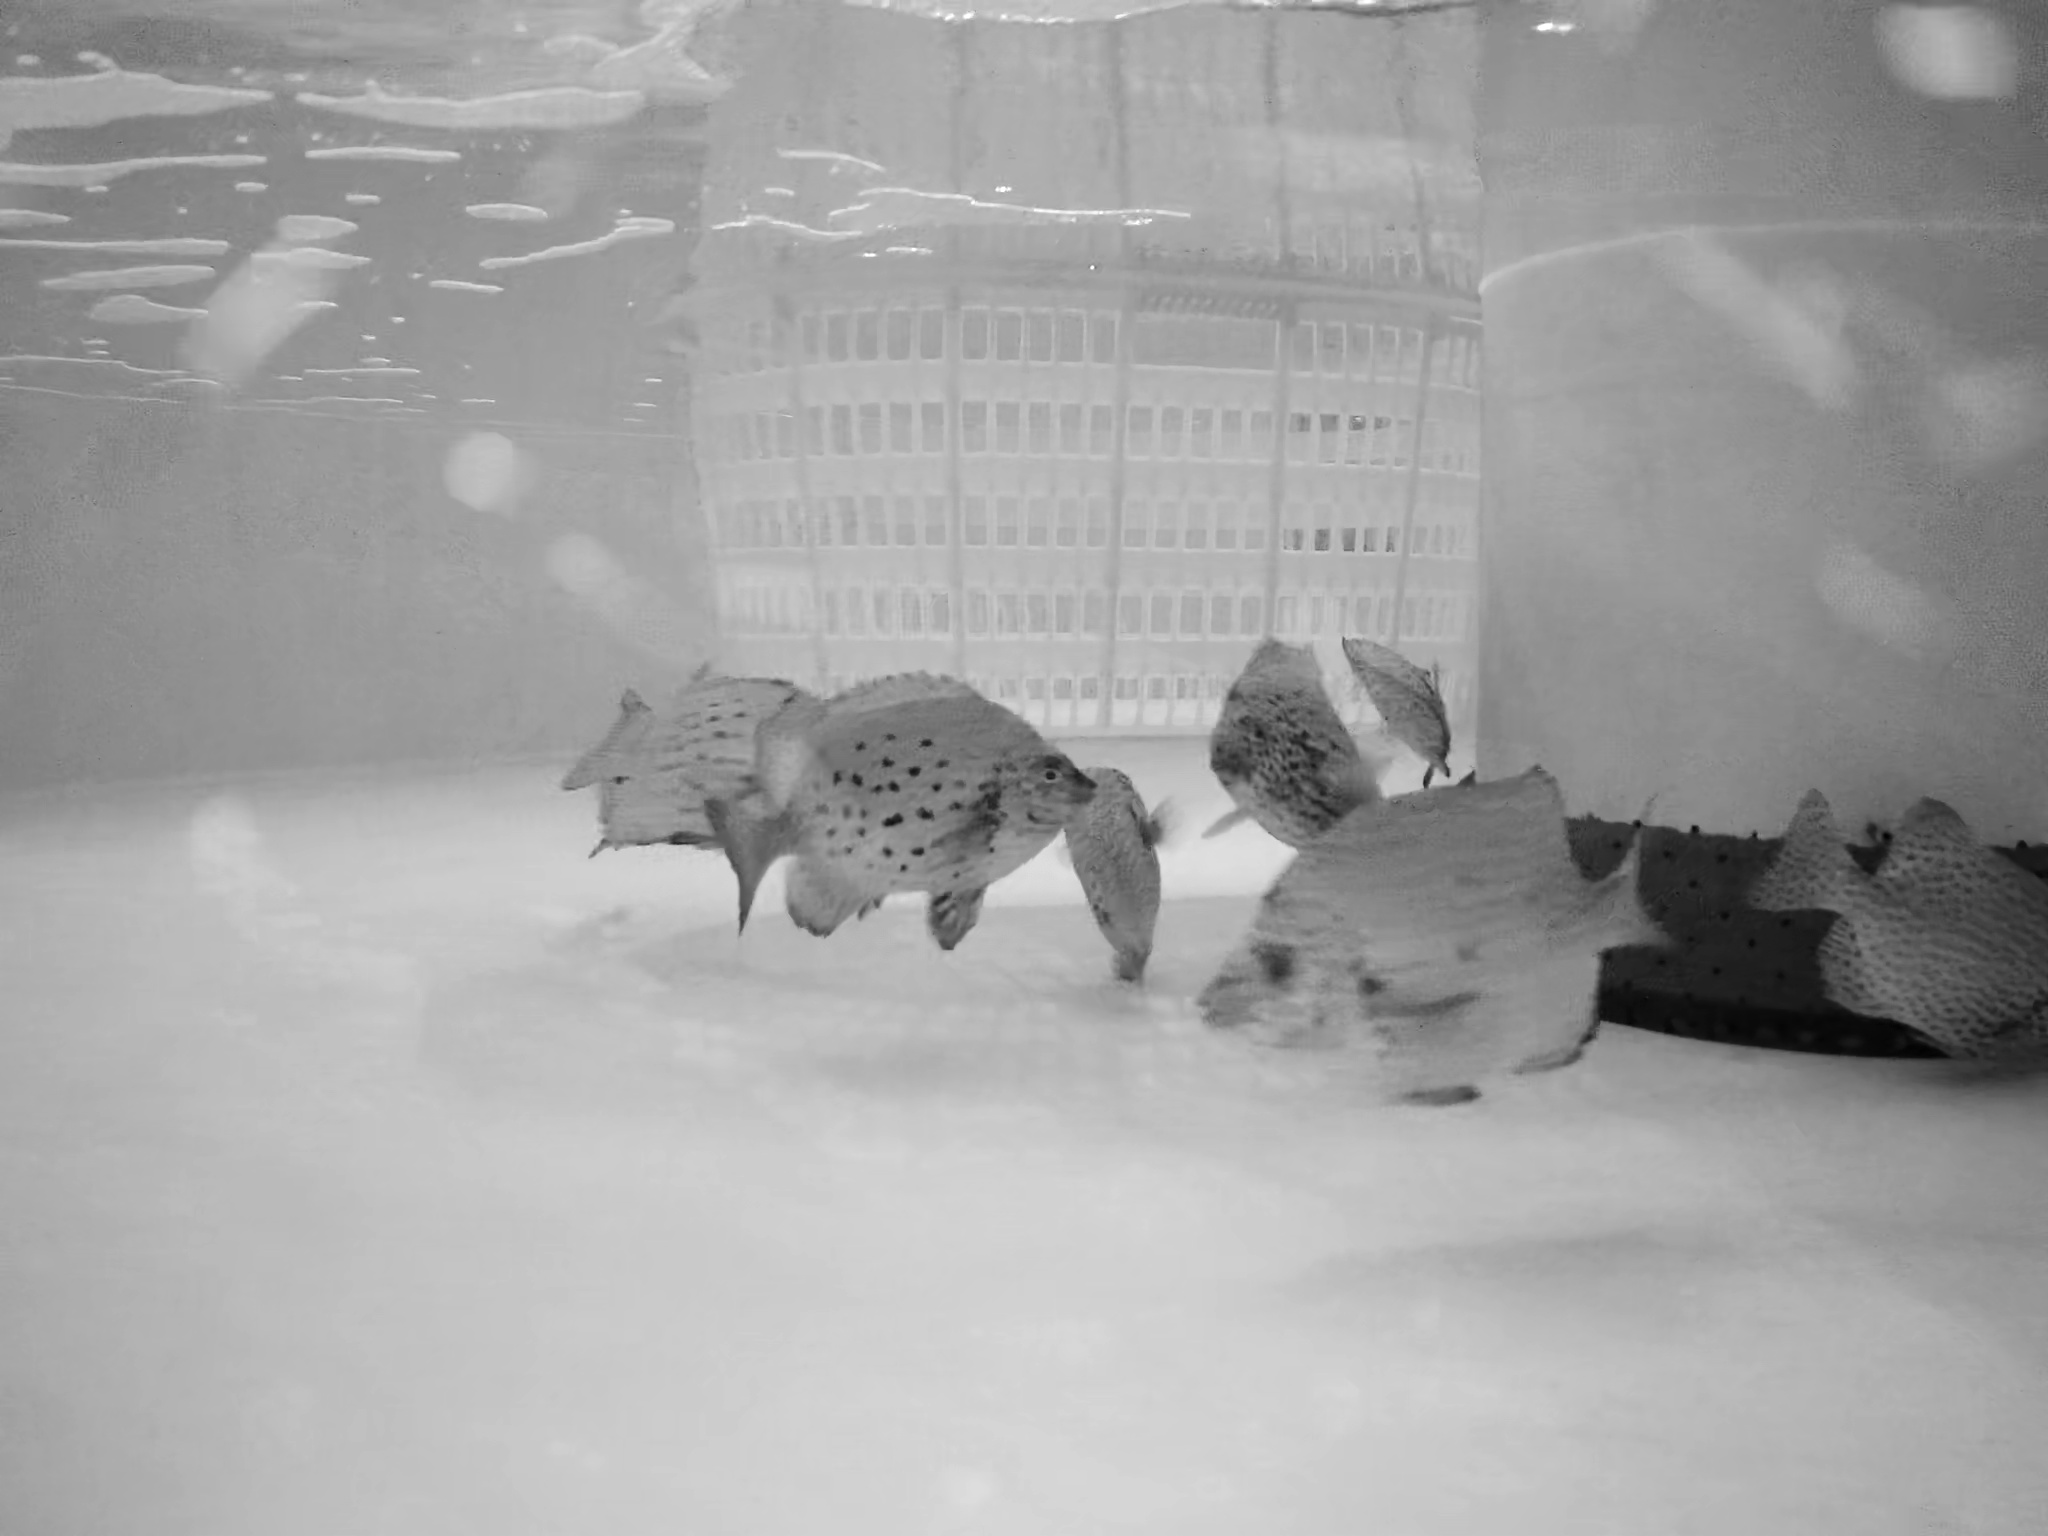fish: (1193, 758, 1667, 1131), (706, 692, 1071, 950), (1767, 789, 2048, 1063), (566, 670, 818, 889), (1193, 629, 1390, 841), (1051, 744, 1184, 999), (1338, 615, 1464, 786)
